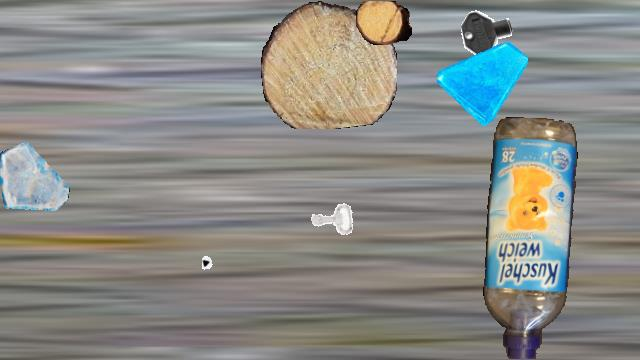glass: (437, 35, 527, 125), (0, 139, 70, 213)
metal: (202, 238, 264, 300), (457, 1, 519, 63), (305, 193, 357, 245)
plastic: (482, 117, 580, 359)
wood: (261, 1, 397, 129), (356, 1, 412, 45)
